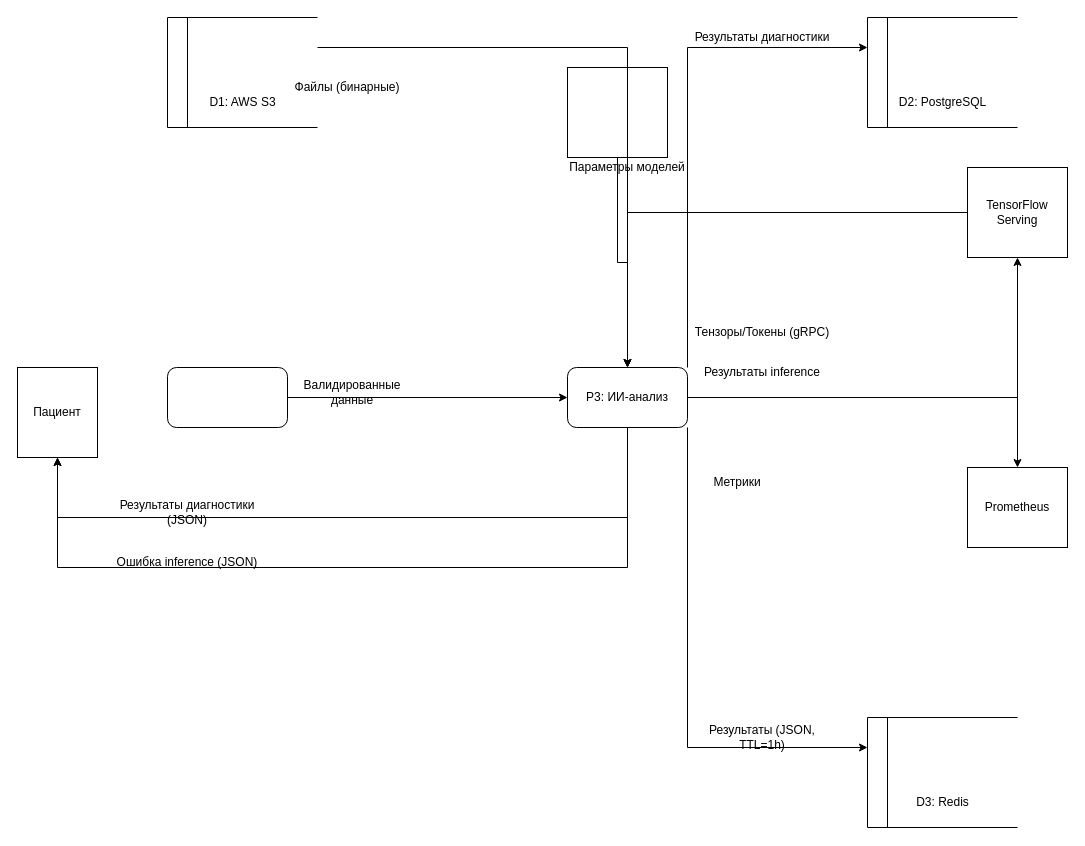
Some shapes in this 1085 by 846 pixel diagram are drawn without their labels. The box of each missing label's shape, as (x1, y1, x2, y2) in pixels:
P2: Валидация: (166, 366, 288, 428)
Конфигурация: (566, 66, 668, 158)
